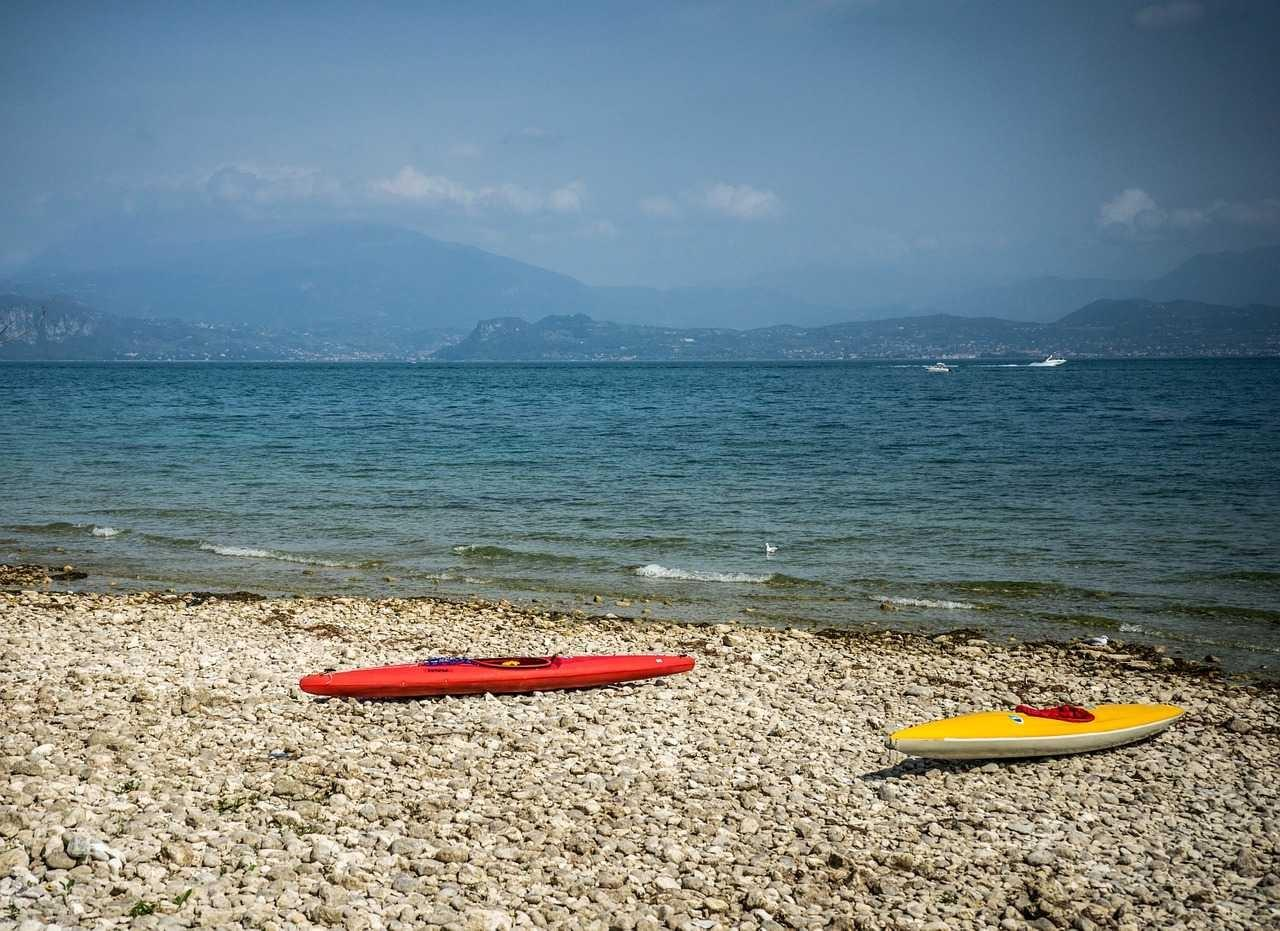kayak: (1028, 353, 1069, 368), (925, 362, 957, 374)
